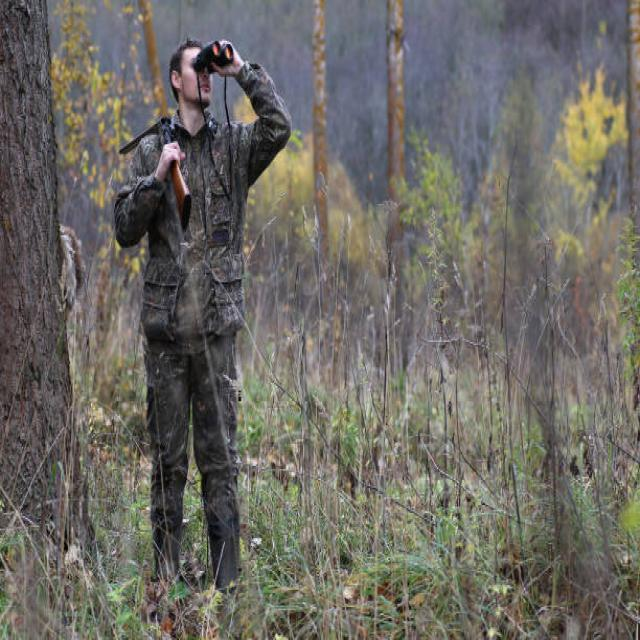ranger: (110, 10, 314, 599)
weapon: (134, 0, 192, 251)
